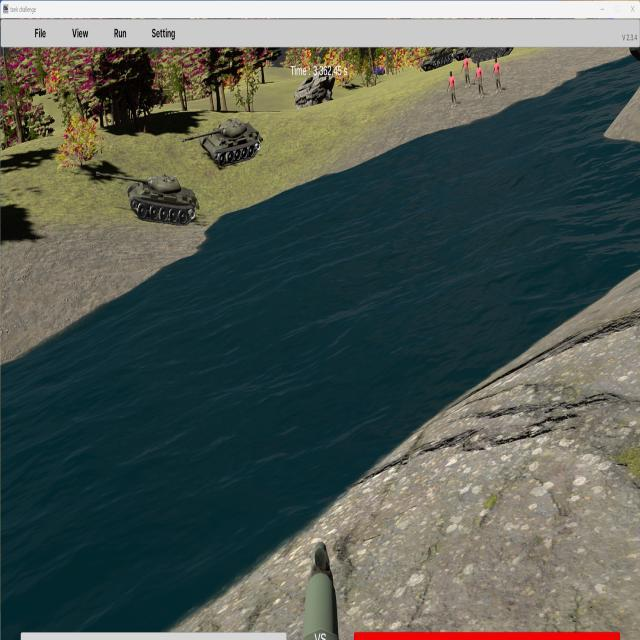Tank: (96, 170, 200, 227), (181, 117, 263, 168)
